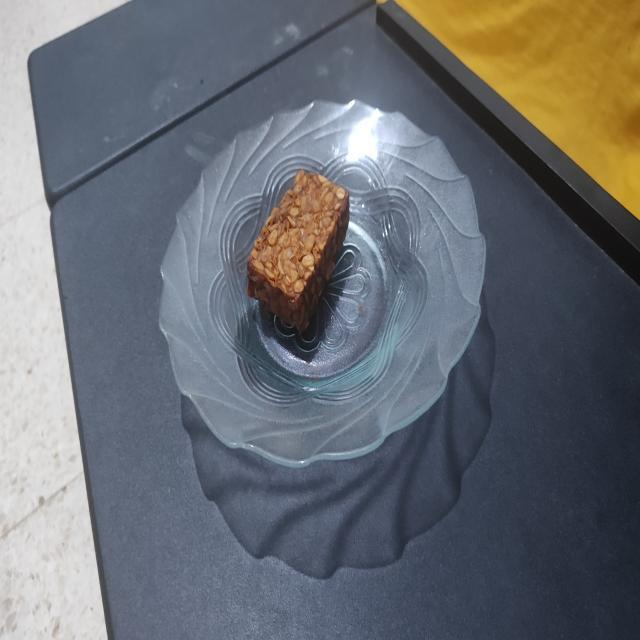tempe_goreng: (248, 170, 350, 331)
